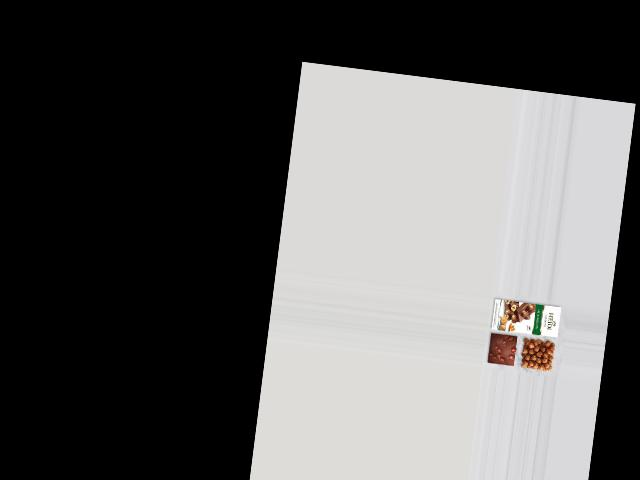chocolate: (485, 331, 518, 369)
